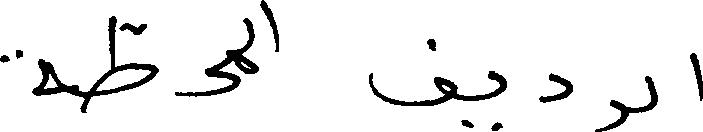X: (85, 11, 153, 117), (367, 34, 456, 110), (0, 45, 63, 100), (175, 45, 232, 101), (462, 66, 506, 131), (234, 13, 250, 93), (541, 68, 570, 107), (596, 95, 625, 131), (260, 0, 278, 56), (689, 48, 702, 105), (645, 71, 657, 116), (252, 19, 255, 78)
